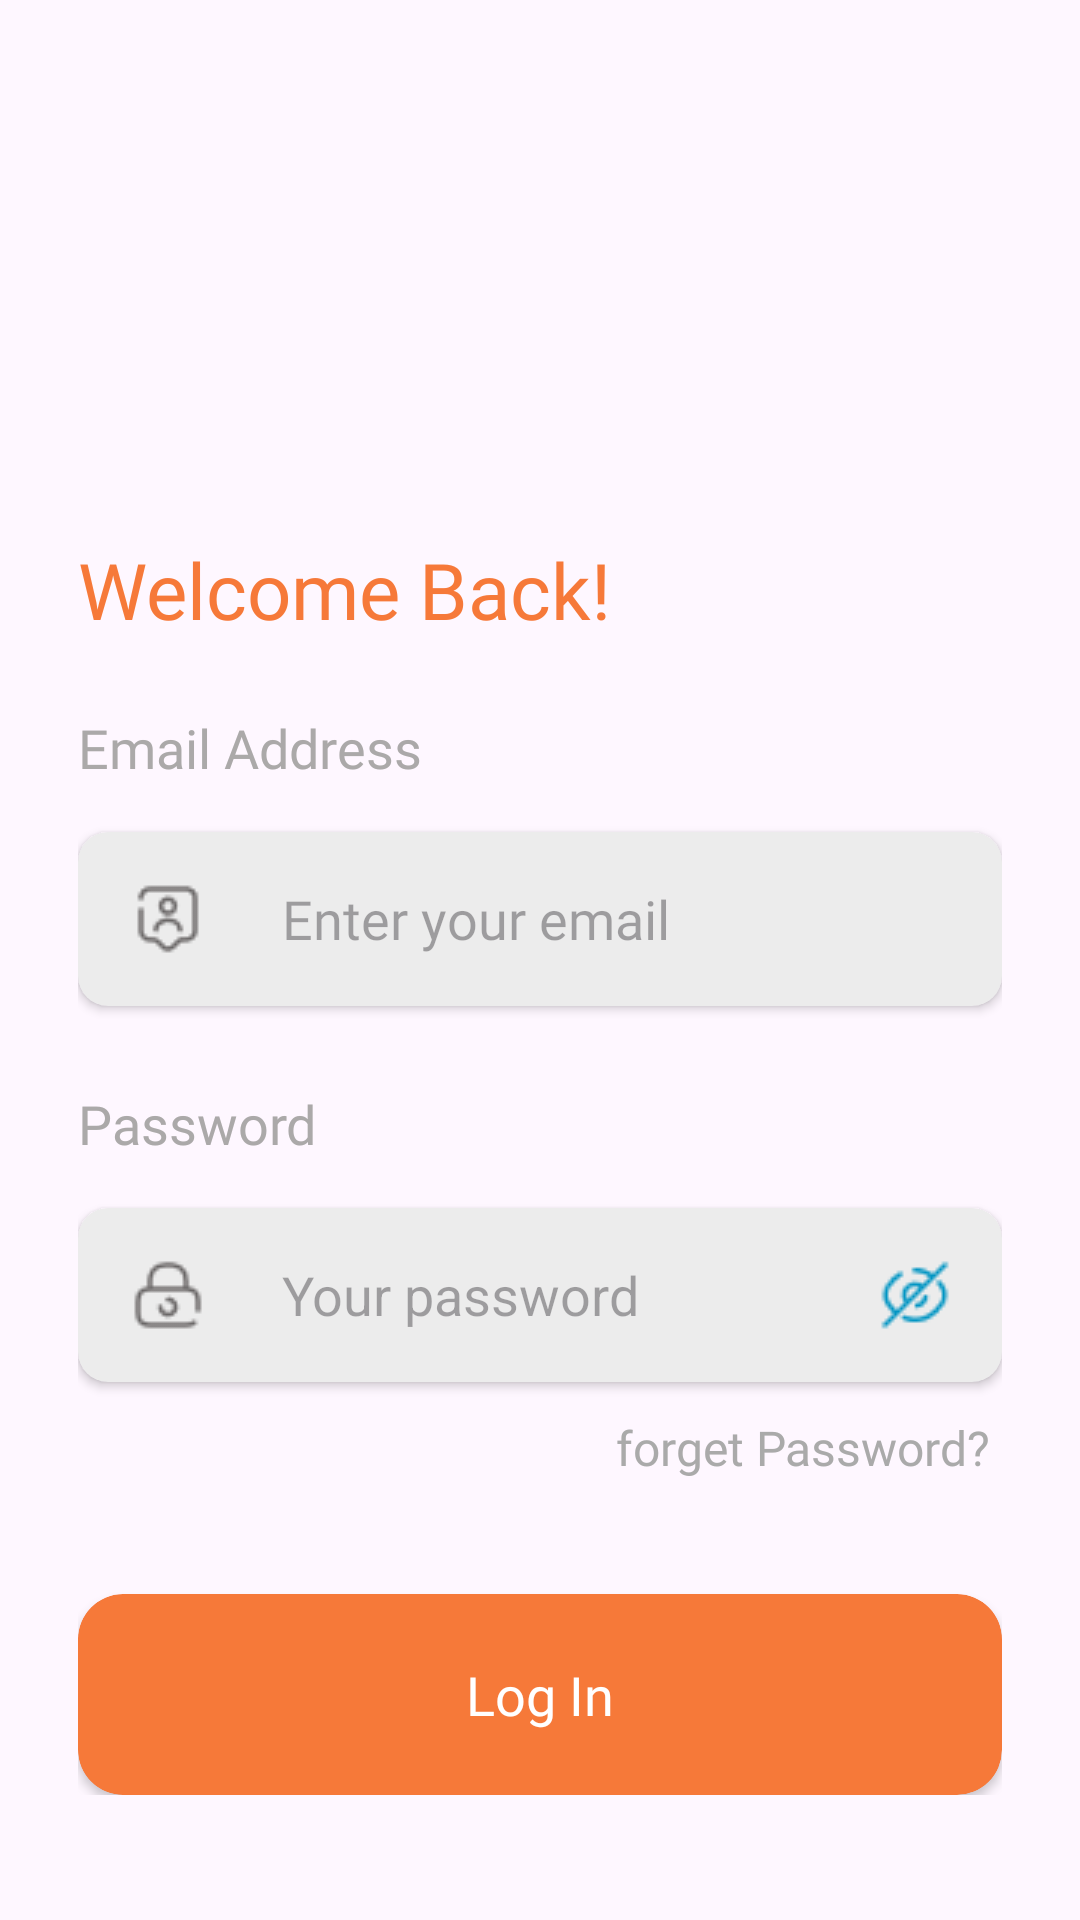

Locate icon controls on the screen. Image size 1080×1920, boxes as (x1, y1, x2, y2).
eyeslash: (881, 1261, 949, 1329)
lock: (134, 1261, 202, 1329)
usertag: (137, 885, 199, 953)
